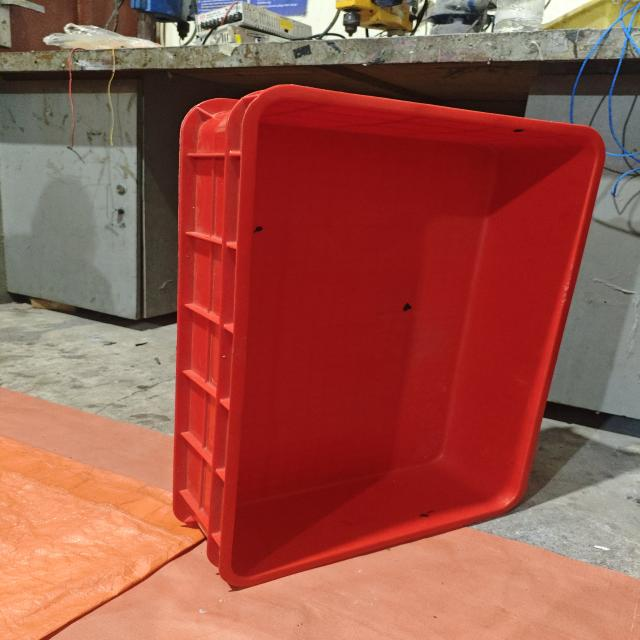red plastic box: (173, 84, 606, 589)
